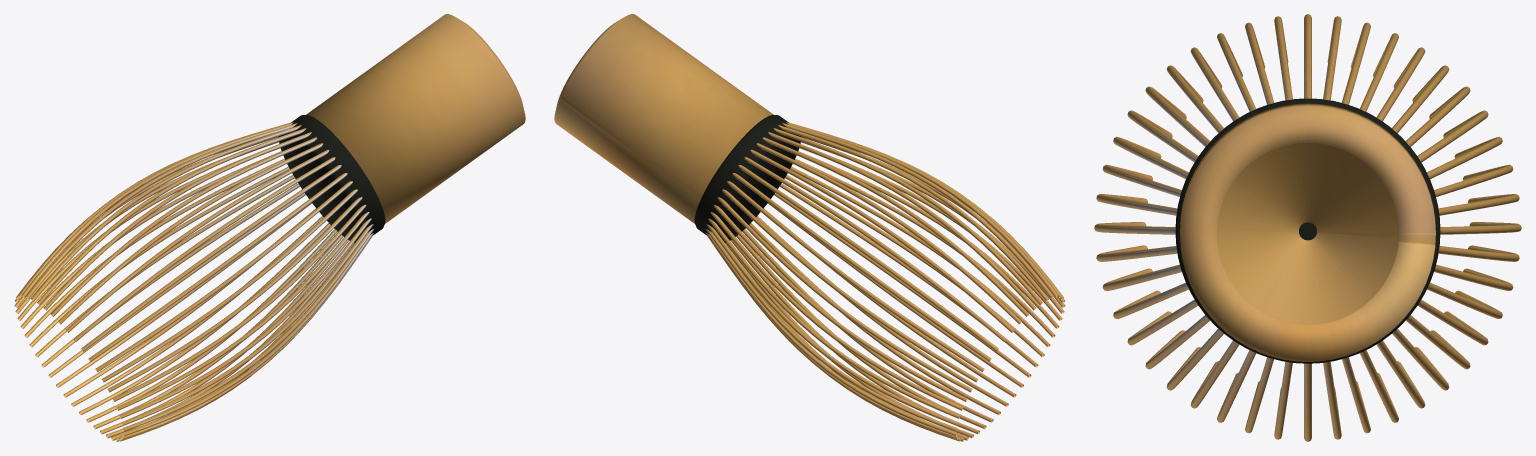
File: pantry_contents__bamboo_whisk.glb
3 renders of one model, left to right at view 1: azimuth 30°, elevation 25°; view 2: azimuth 150°, elevation 25°; view 3: azimuth 270°, elevation 25°, orthographic. The views are drawn at different scales.
Parts seen in each view (by area): view 1: bamboo_whisk__body; view 2: bamboo_whisk__body; view 3: bamboo_whisk__body.
Part boxes in pixels (box(x1,y1,x2,y2)): bamboo_whisk__body: box(14, 14, 525, 441); bamboo_whisk__body: box(554, 14, 1065, 441); bamboo_whisk__body: box(1094, 14, 1521, 441).
Size of the model in its own units: 0.1129 by 0.0749 by 0.0468.
2 materials, 1 textured.
